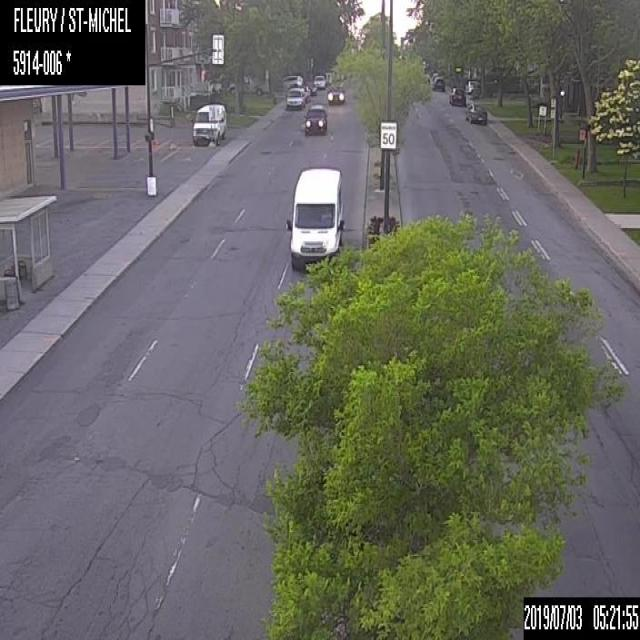vehicle: (284, 164, 344, 268), (190, 102, 228, 146), (302, 103, 326, 133), (464, 100, 488, 124), (286, 84, 305, 110), (326, 83, 346, 106), (449, 86, 468, 106), (312, 72, 327, 88), (430, 75, 444, 91)
